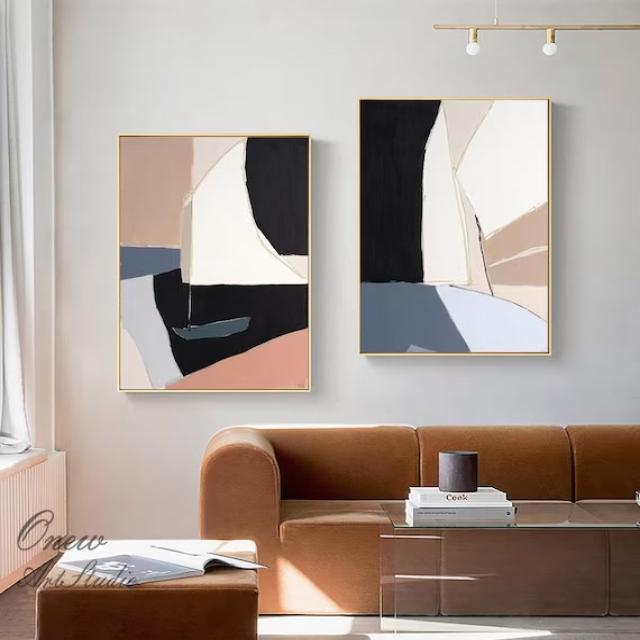painting: (117, 133, 311, 393), (361, 100, 555, 360)
